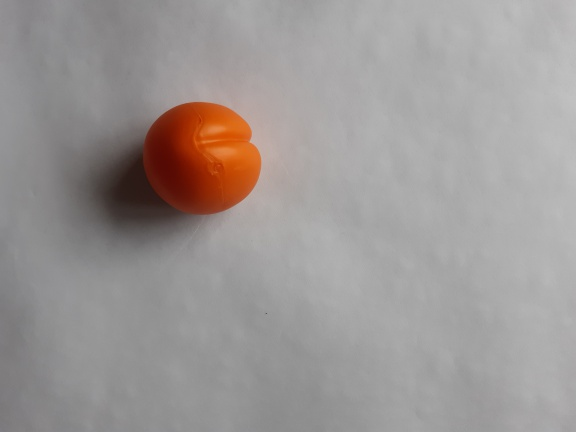apricot: (134, 96, 269, 224)
